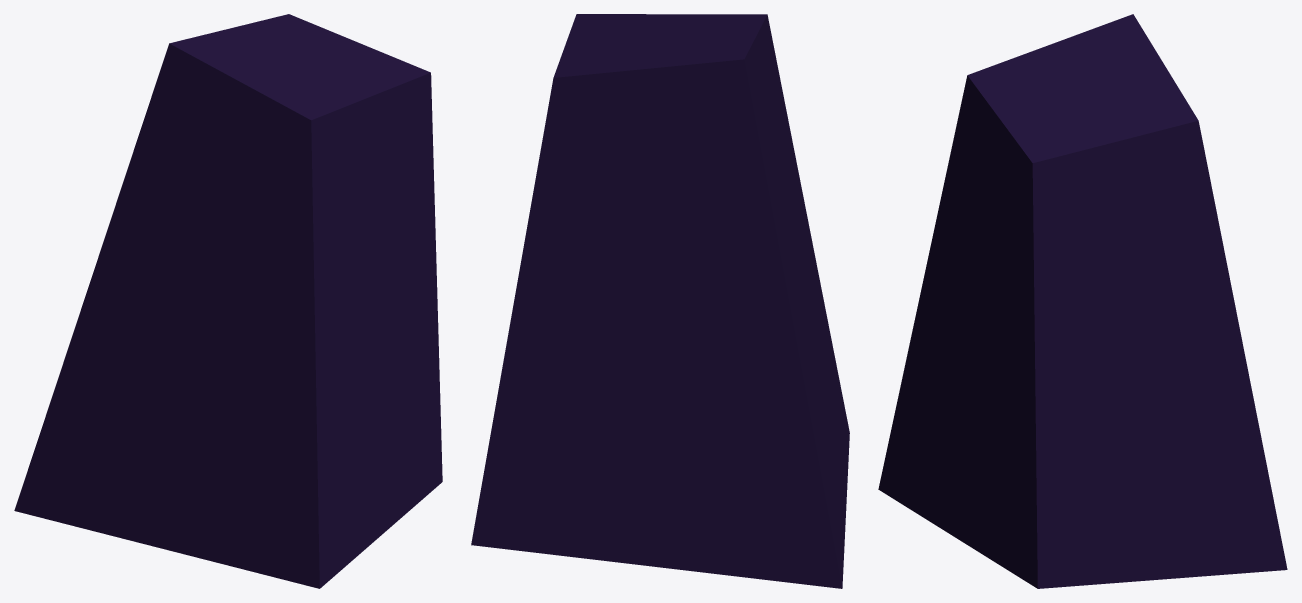
Rendered from stone_009_grp.fbx.
3 views of the same model, side by side, from view 1: azimuth 30°, elevation 25°; view 2: azimuth 150°, elevation 25°; view 3: azimuth 270°, elevation 25° (orthographic). The views are drawn at different scales.
Parts seen in each view (by area): view 1: stone_009_grp; view 2: stone_009_grp; view 3: stone_009_grp.
Boxes of the visible parts, x1,y1,x2,y2 form: stone_009_grp: [14, 14, 442, 588]; stone_009_grp: [471, 14, 849, 588]; stone_009_grp: [878, 14, 1287, 588].
Bounding box in the file's own units: 40 × 50 × 40.
